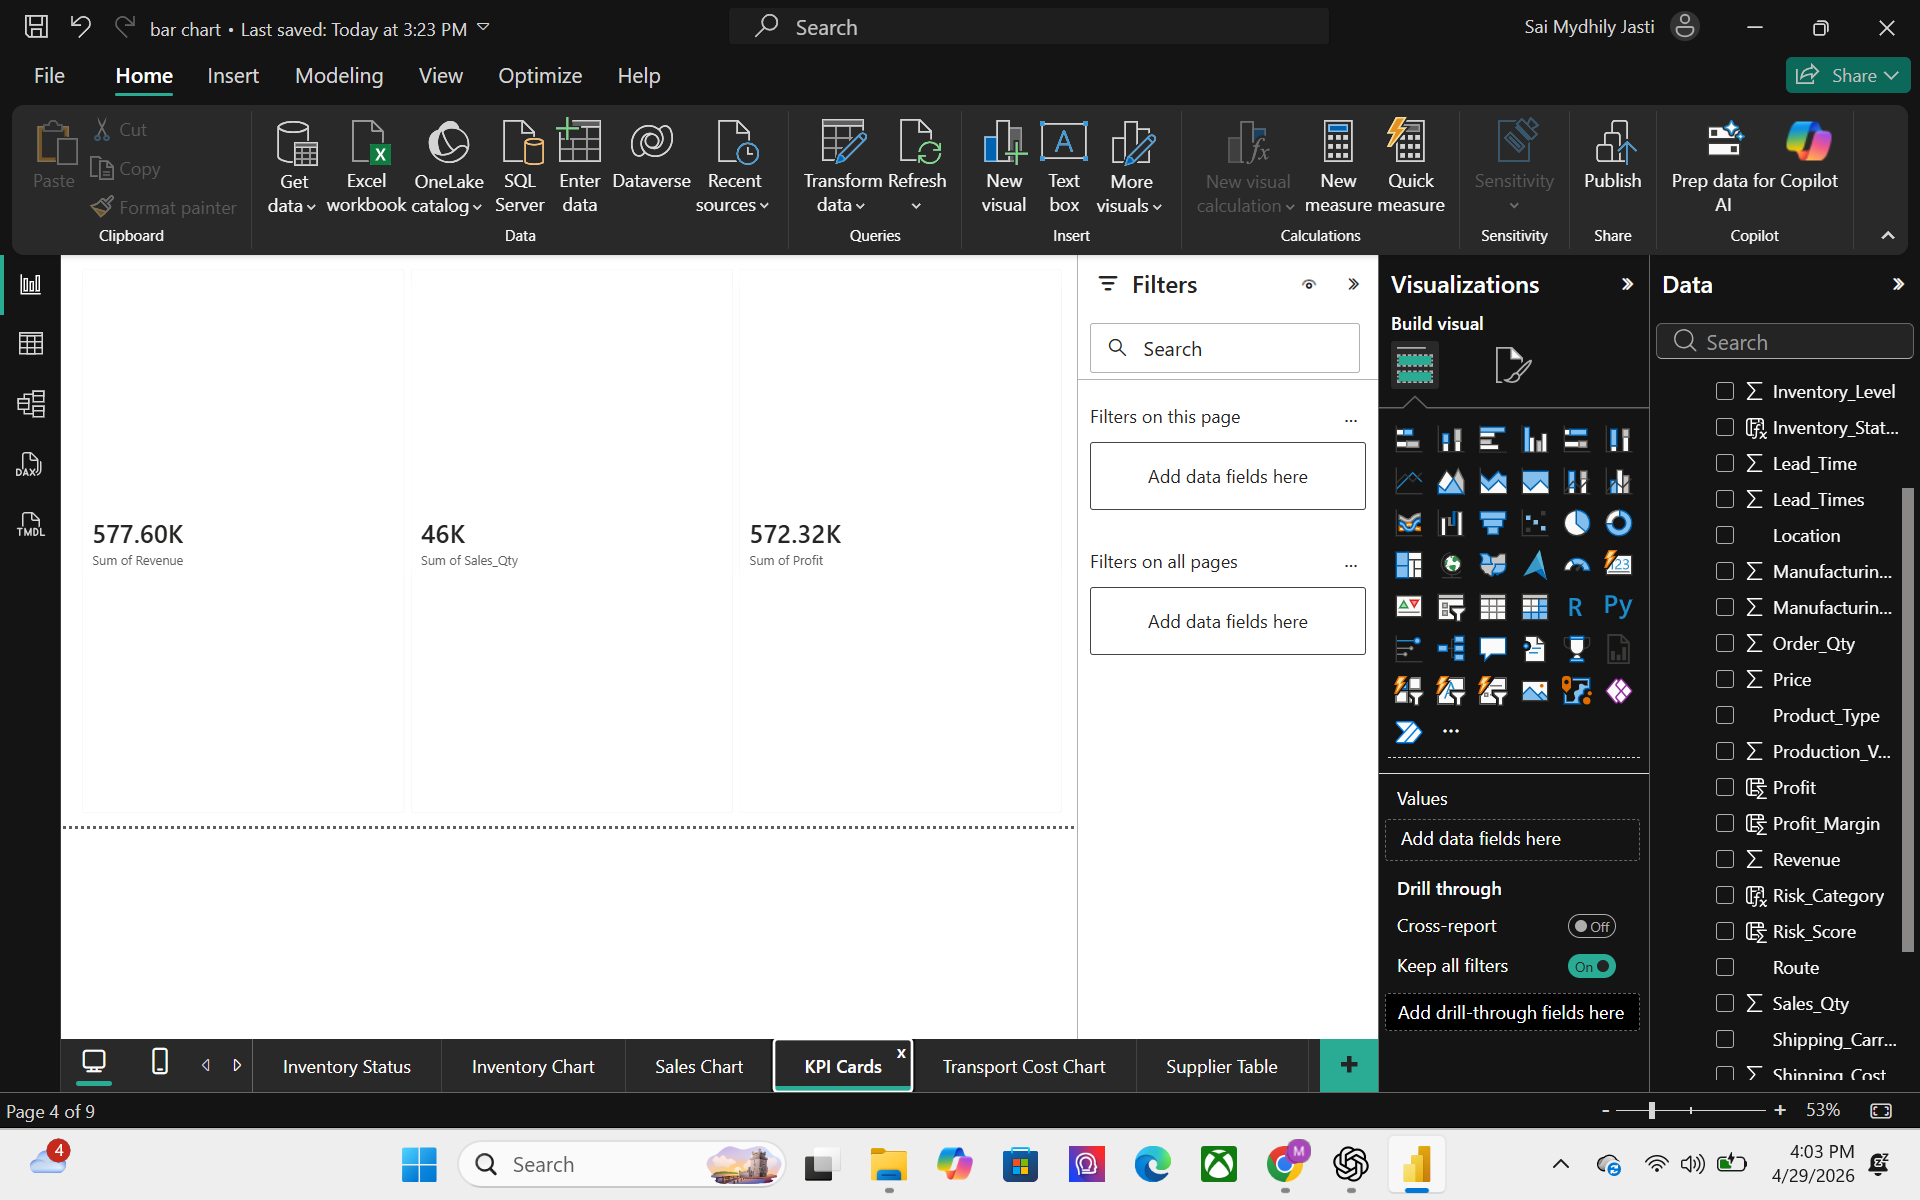

What the dashboard file says about the page in this screenshot:
{"tool":"powerbi","page":{"name":"KPI Cards","canvas":[1280,720],"ordinal":3},"visuals":[{"type":"cardVisual","fields":{"Data":["Sum(supply_chain_data.Revenue)","Sum(supply_chain_data.Sales_Qty)","Sum(supply_chain_data.Profit)"]},"box":[10,0,1270,720],"z":0}]}

Visuals, with their boxes on the page's 1280x720 design canvas (x1, y1, x2, y2). These are canvas units, not pixel positions in the 1920x1200 screenshot, which may show the page scaled, cropped or inside an application window:
cardVisual - Sum(supply_chain_data.Revenue) x Sum(supply_chain_data.Sales_Qty): locate(10, 0, 1280, 720)
